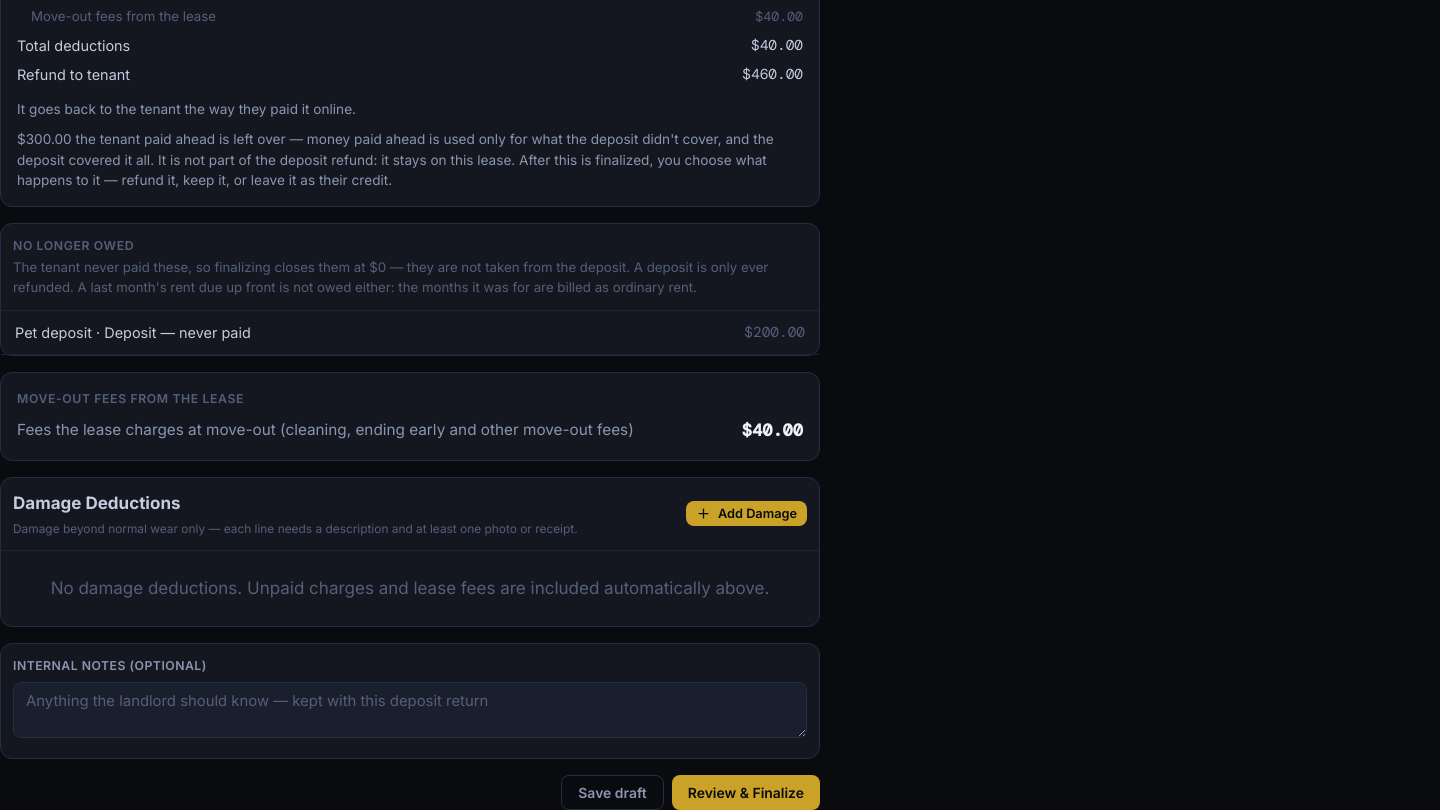
Test: Deposit return: the server's figures, never the page's own sum › #46.4: never-paid deposits closed at move-out are listed as no longer owed, never as deductions
(page scrolled)
Expected: the element with test id "closed-lines" shows "No longer owed", [13, 238, 134, 254]
Expected: the element with test id "closed-lines" shows "they are not taken from the deposit", [13, 259, 768, 295]
Click the button "Review & Finalize" at (746, 792), box [672, 775, 820, 809]
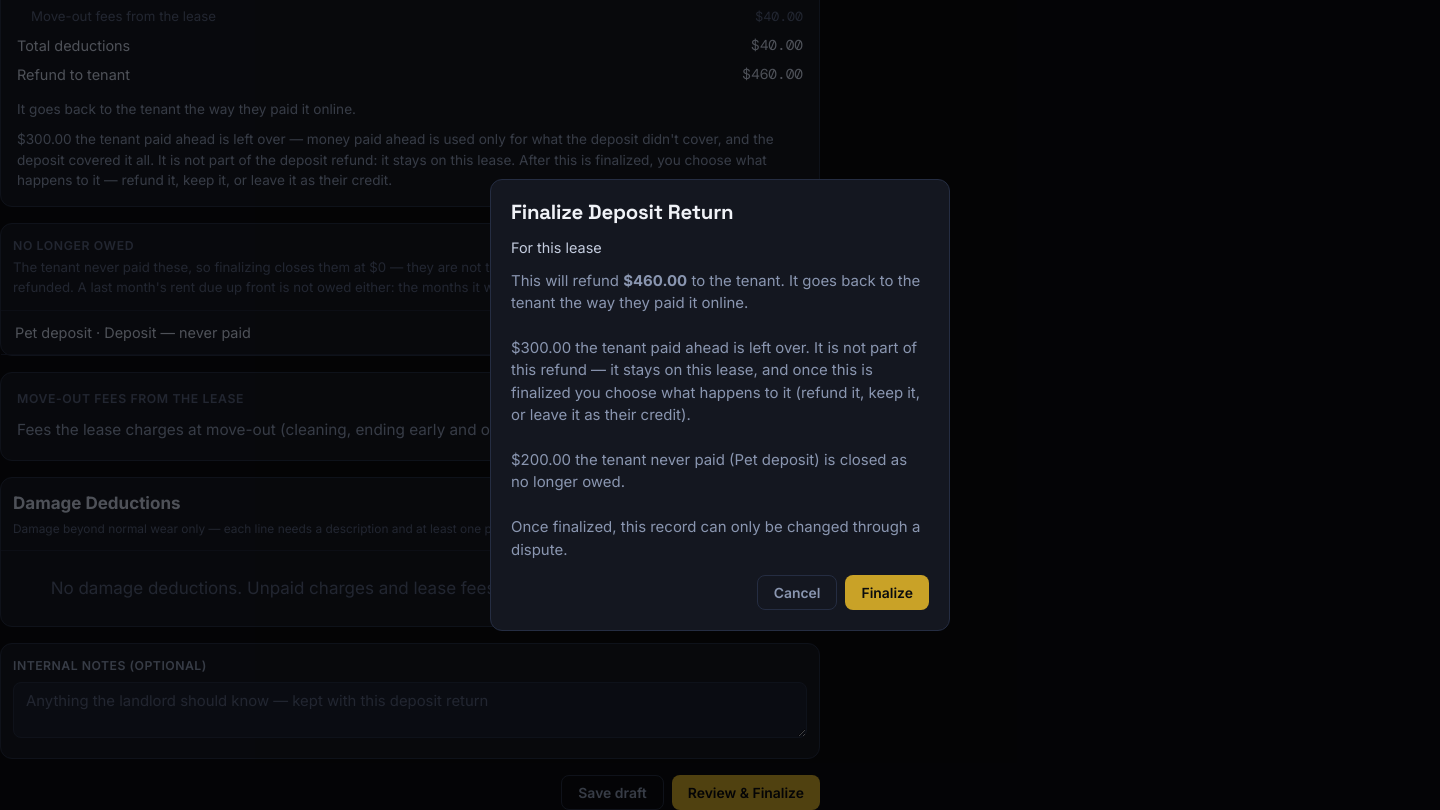
Now the dialog shows "$200.00 the tenant never paid (Pet deposit) is closed as no longer owed.", box [490, 179, 950, 631]
